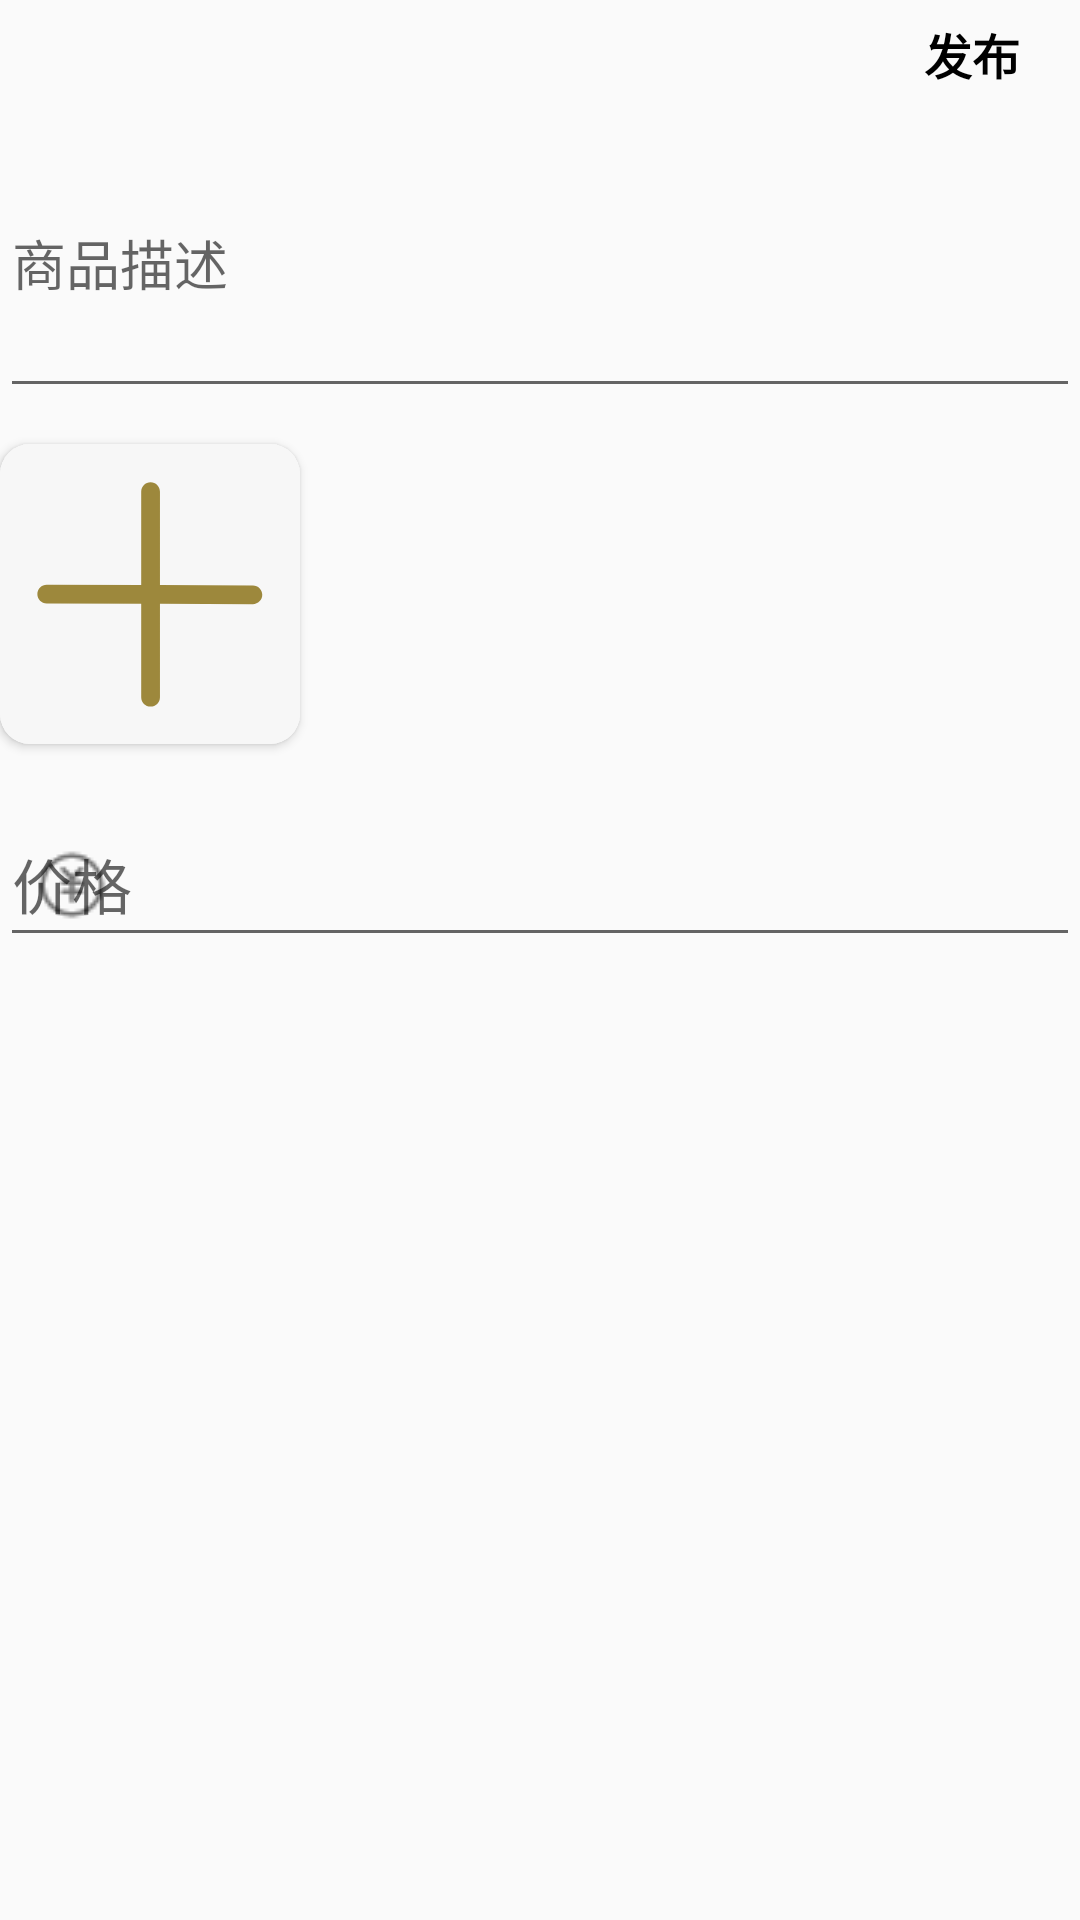

Named icons in this screenshot (1080 × 1920) and their bounding boxes, box=[x1, y1, x2, y2]:
add: box=[0, 466, 286, 744]
